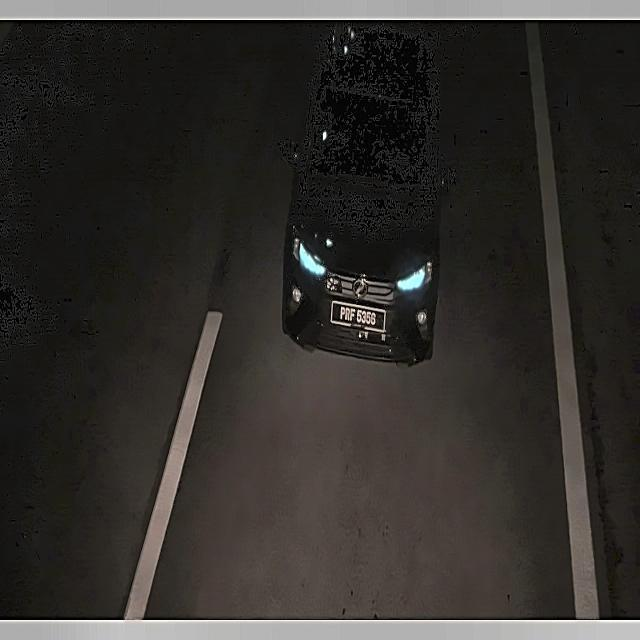car: (329, 297, 388, 331)
